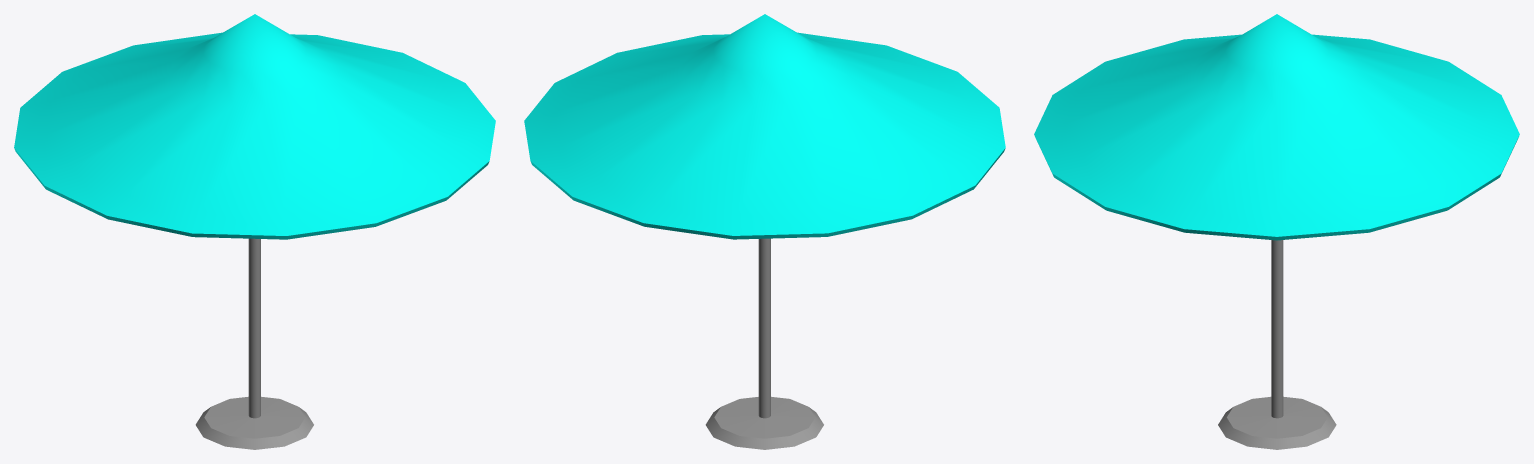
File: MOD_ParasolB.FBX
The picture shows the model from 3 angles, left to right: view 1: azimuth 30°, elevation 25°; view 2: azimuth 150°, elevation 25°; view 3: azimuth 270°, elevation 25°; orthographic projection.
Parts seen in each view (by area): view 1: Line004; view 2: Line004; view 3: Line004.
Part boxes in pixels (<box>): Line004: <box>14,14,495,449</box>; Line004: <box>524,14,1005,449</box>; Line004: <box>1034,14,1519,449</box>.
Bounding box in the file's own units: 80.37 × 75 × 80.37.
